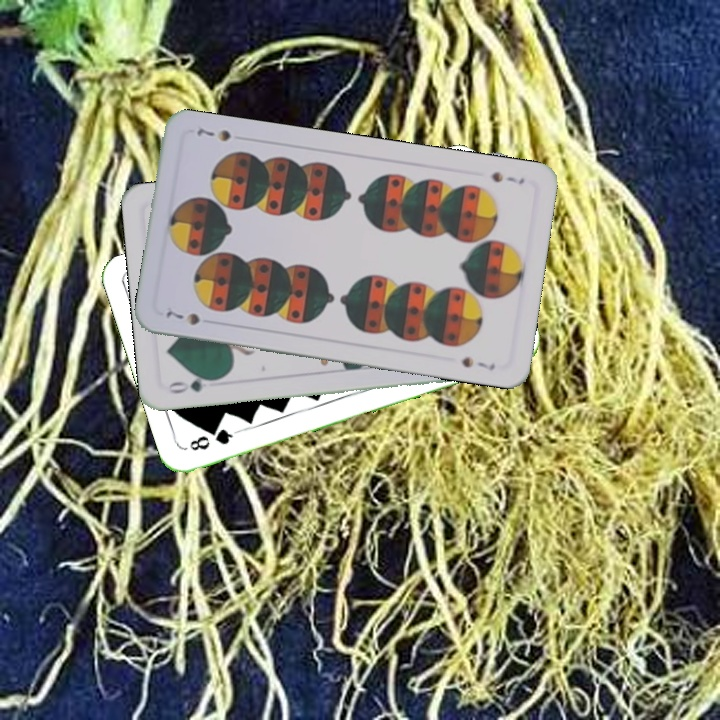G8: (185, 425, 240, 454)
GO: (163, 371, 222, 396)
S7: (162, 306, 203, 328), (487, 167, 527, 187)
